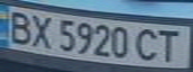0: (112, 24, 133, 60)
2: (90, 21, 115, 57)
5: (54, 17, 78, 53)
9: (72, 20, 96, 56)
B: (3, 8, 36, 45)
C: (136, 25, 163, 62)
T: (154, 26, 187, 63)
X: (24, 12, 57, 48)
